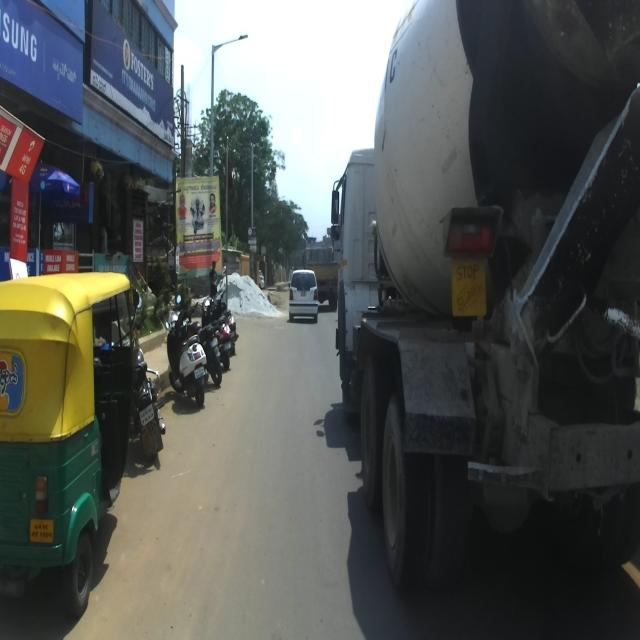Car_Hyundai: (288, 269, 318, 323)
autorickshaw: (0, 269, 140, 619)
motorcycle_RoyalEnfield: (130, 296, 166, 465)
motorcycle_bajaj: (173, 293, 223, 385)
scooter: (164, 294, 207, 406), (199, 291, 232, 369)
truck: (330, 0, 640, 597)
